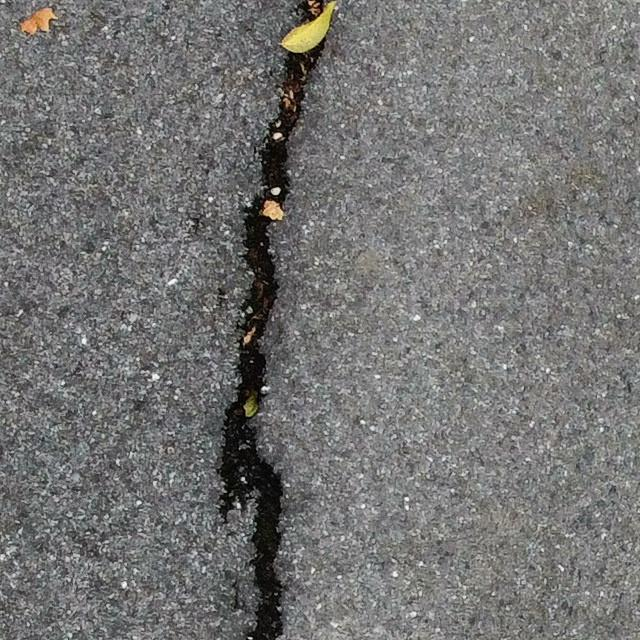LongitudinalCrack: (215, 1, 330, 640)
